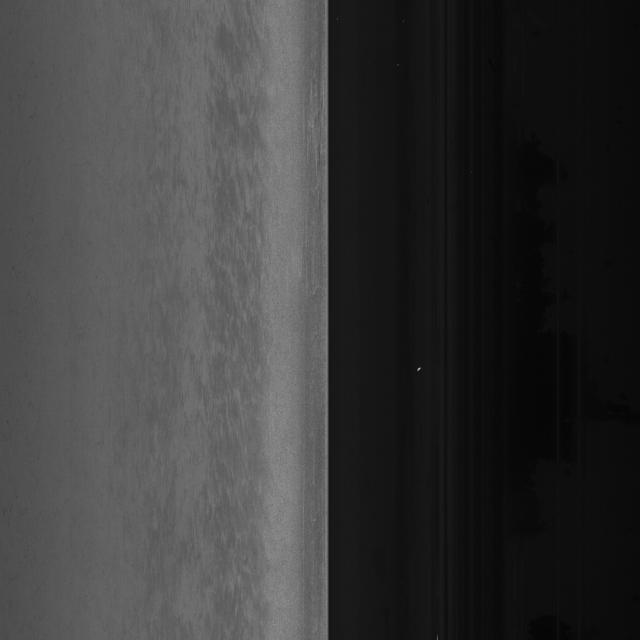inclusion: (160, 222, 278, 383)
